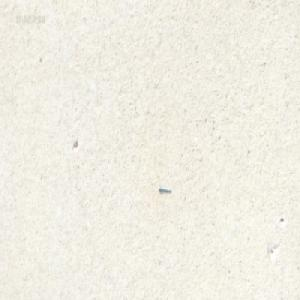Nail: (158, 185, 171, 194)
